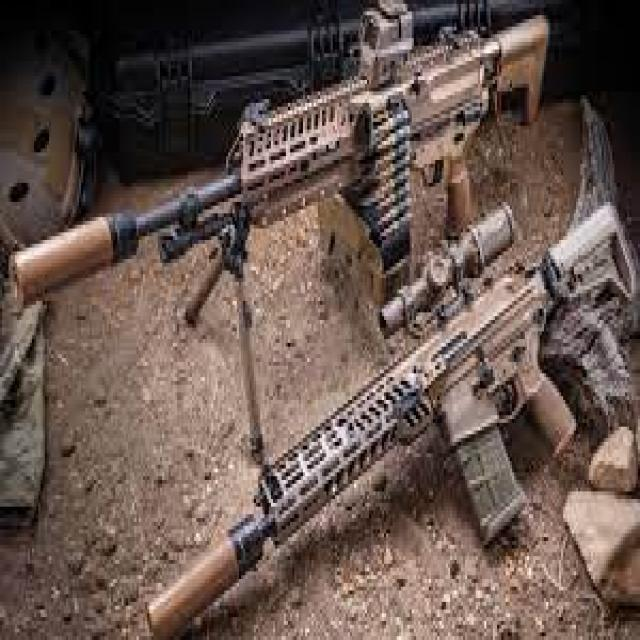weapon: (9, 14, 552, 457), (145, 197, 640, 640)
